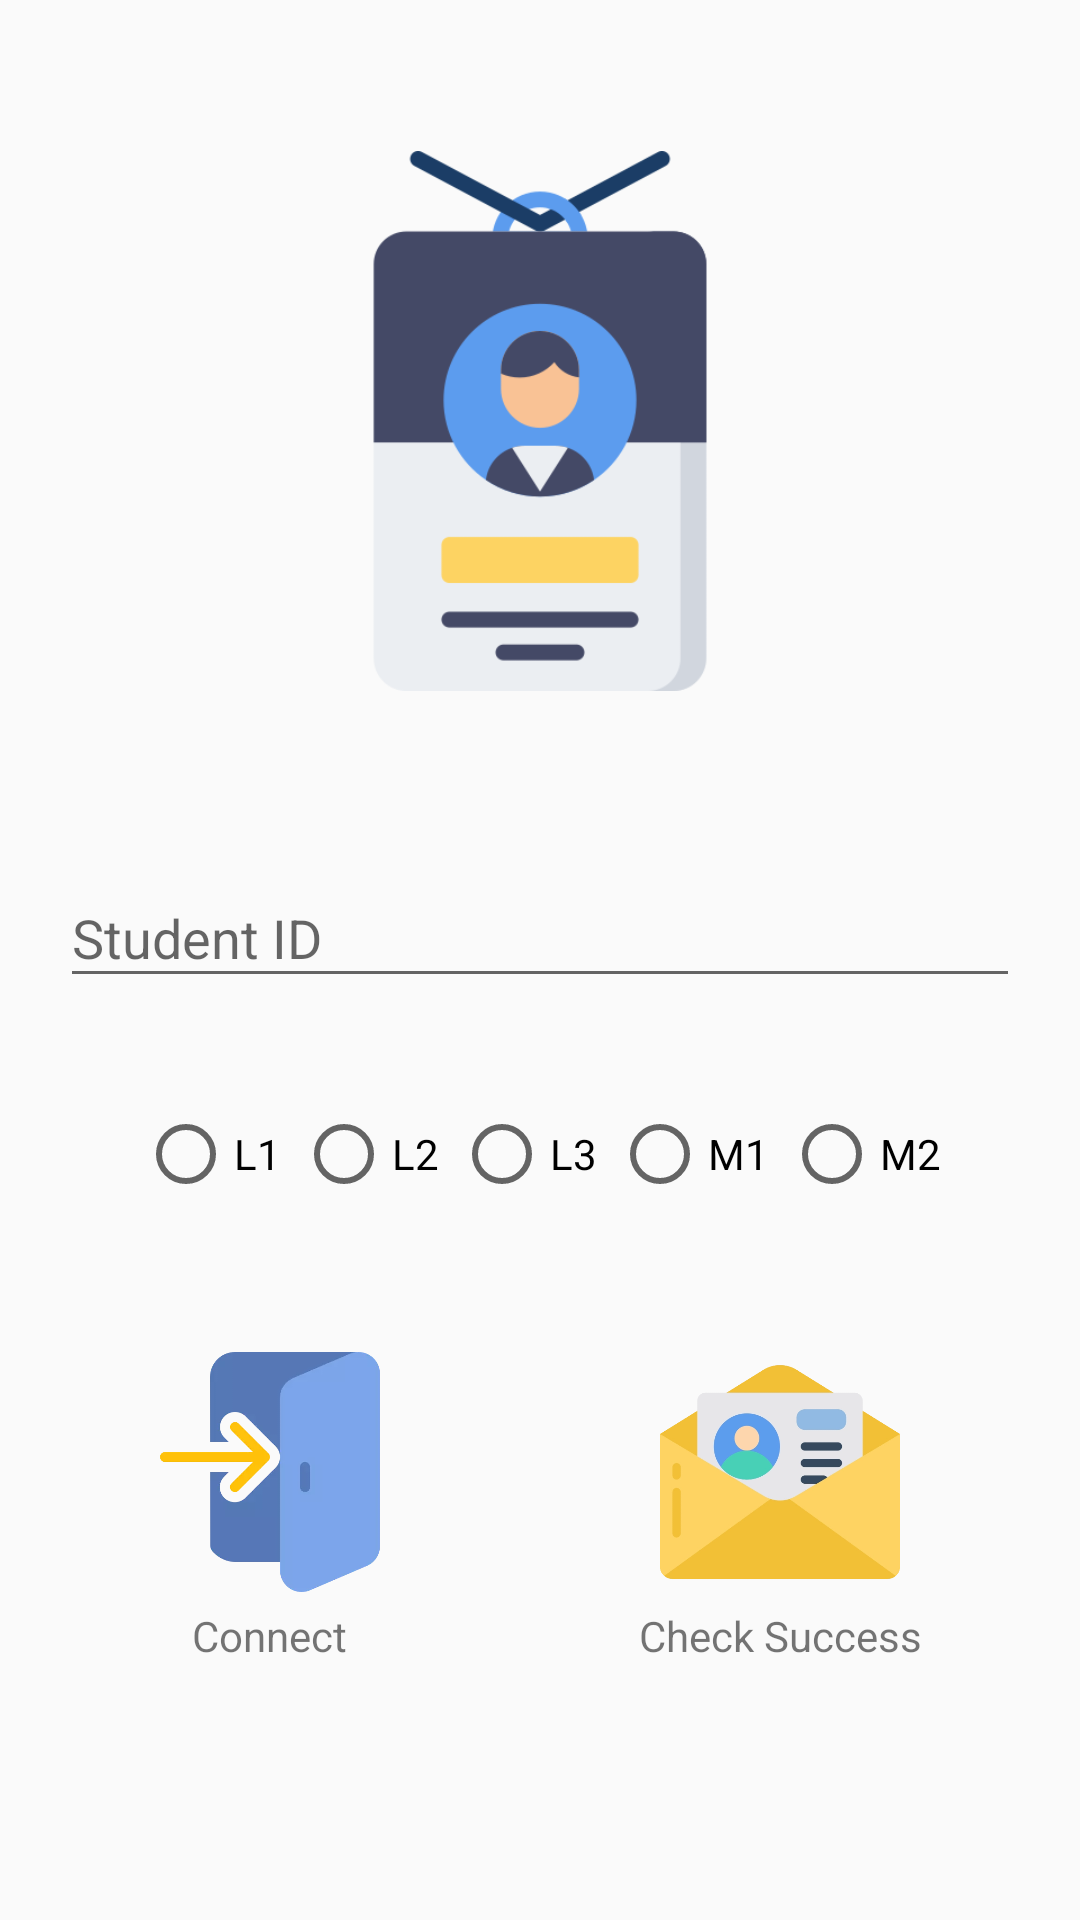

Icon click points for this 1080 x 1920 phone screenshot, format point (x, y):
enter: point (270, 1472)
envelope: point (780, 1472)
